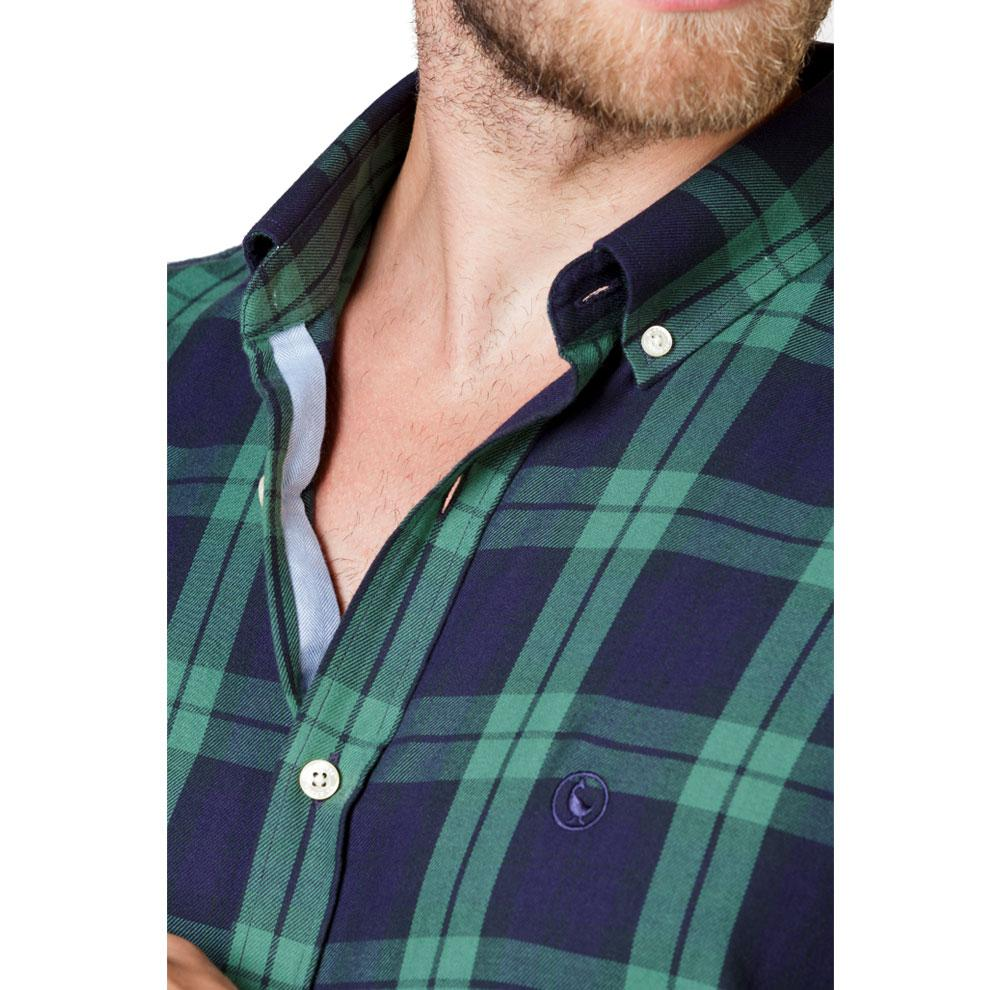teeshirt: (145, 158, 880, 990)
